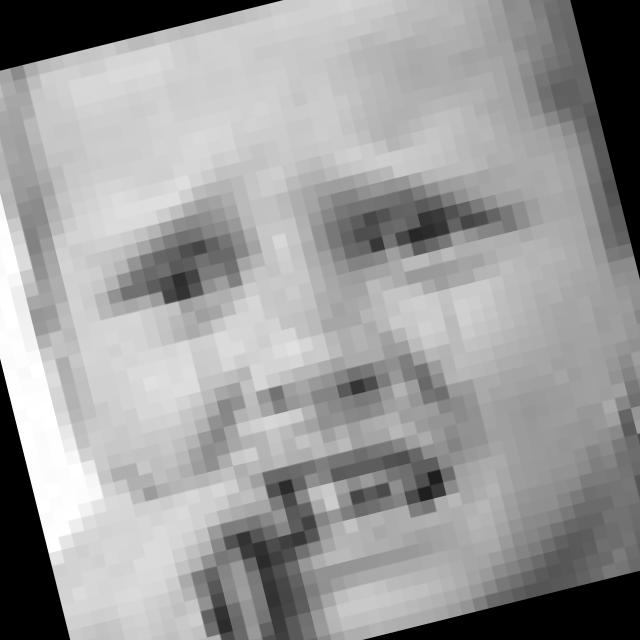fear: (76, 115, 597, 620)
